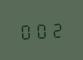two: (49, 19, 63, 38)
zero: (18, 21, 32, 40), (34, 20, 48, 39)
